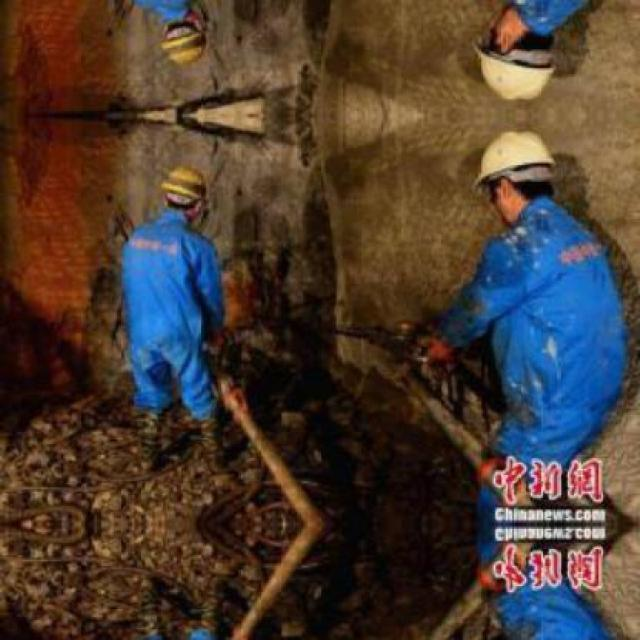helmet: (466, 2, 559, 106), (466, 125, 559, 228), (161, 12, 205, 65), (161, 166, 205, 218)
